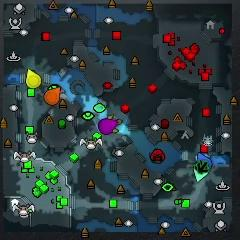p1: (197, 152, 212, 167)
p2: (194, 169, 210, 183)
p3: (98, 118, 117, 135)
p4: (25, 69, 42, 88)
p5: (45, 87, 61, 105)
x2: (107, 115, 123, 133)
x4Clone: (194, 160, 208, 170), (198, 161, 208, 173)
